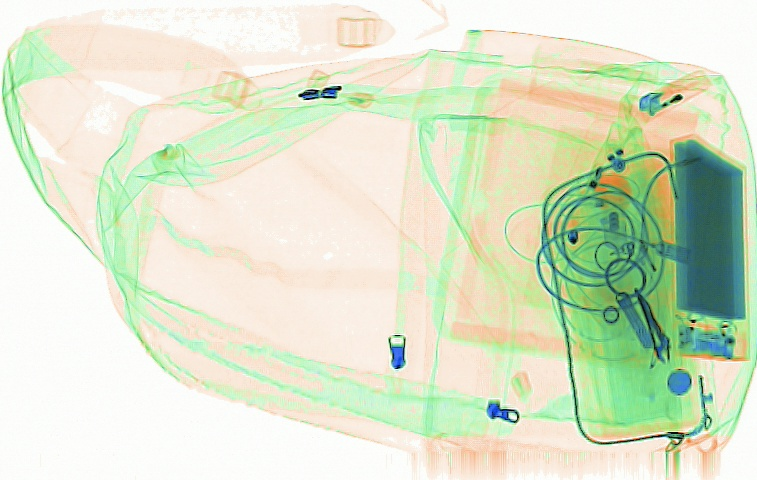lighter: (634, 67, 711, 119)
